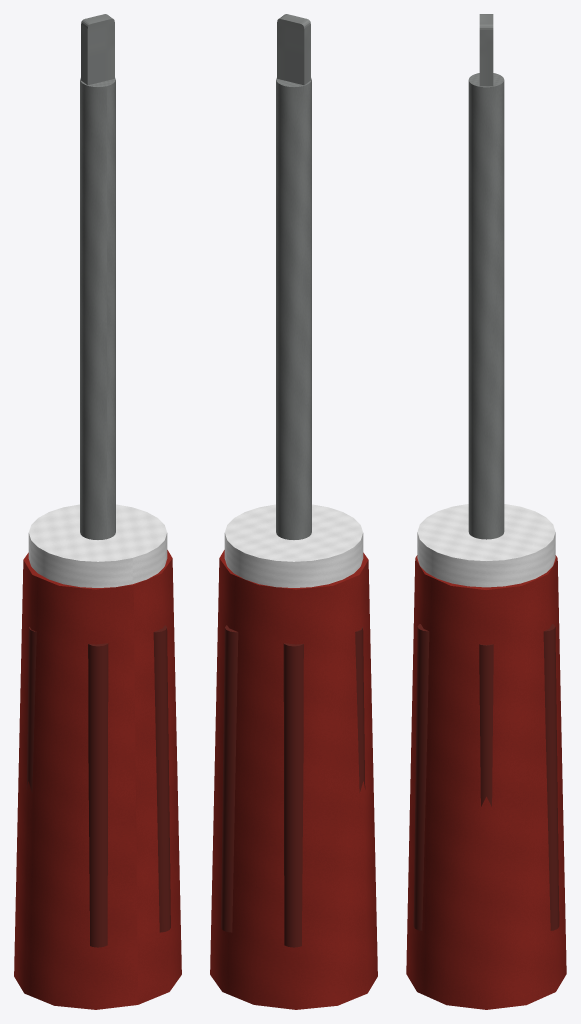
Rendered from Screwdriver.glb.
The picture shows the model from 3 angles, left to right: view 1: azimuth 30°, elevation 25°; view 2: azimuth 150°, elevation 25°; view 3: azimuth 270°, elevation 25°; orthographic projection.
Parts seen in each view (by area): view 1: Red_Grip, Shaft, Screwdriver, Collar, Blade_Tip; view 2: Red_Grip, Shaft, Screwdriver, Collar, Blade_Tip; view 3: Red_Grip, Shaft, Screwdriver, Collar, Blade_Tip.
Part boxes in pixels (x1=…): Red_Grip: x1=14, y1=550, x2=181, y2=1009; Shaft: x1=80, y1=78, x2=115, y2=539; Screwdriver: x1=26, y1=625, x2=170, y2=947; Collar: x1=28, y1=504, x2=167, y2=587; Blade_Tip: x1=81, y1=14, x2=114, y2=85; Red_Grip: x1=210, y1=550, x2=377, y2=1009; Shaft: x1=276, y1=78, x2=311, y2=539; Screwdriver: x1=221, y1=625, x2=365, y2=947; Collar: x1=224, y1=504, x2=363, y2=587; Blade_Tip: x1=277, y1=14, x2=310, y2=85; Red_Grip: x1=406, y1=555, x2=566, y2=1009; Shaft: x1=468, y1=73, x2=504, y2=539; Screwdriver: x1=413, y1=624, x2=559, y2=930; Collar: x1=417, y1=504, x2=555, y2=587; Blade_Tip: x1=479, y1=14, x2=493, y2=86.
Size of the model in its own units: 0.0382 by 0.2365 by 0.036.
Materials: 9 (3 with a texture image).
